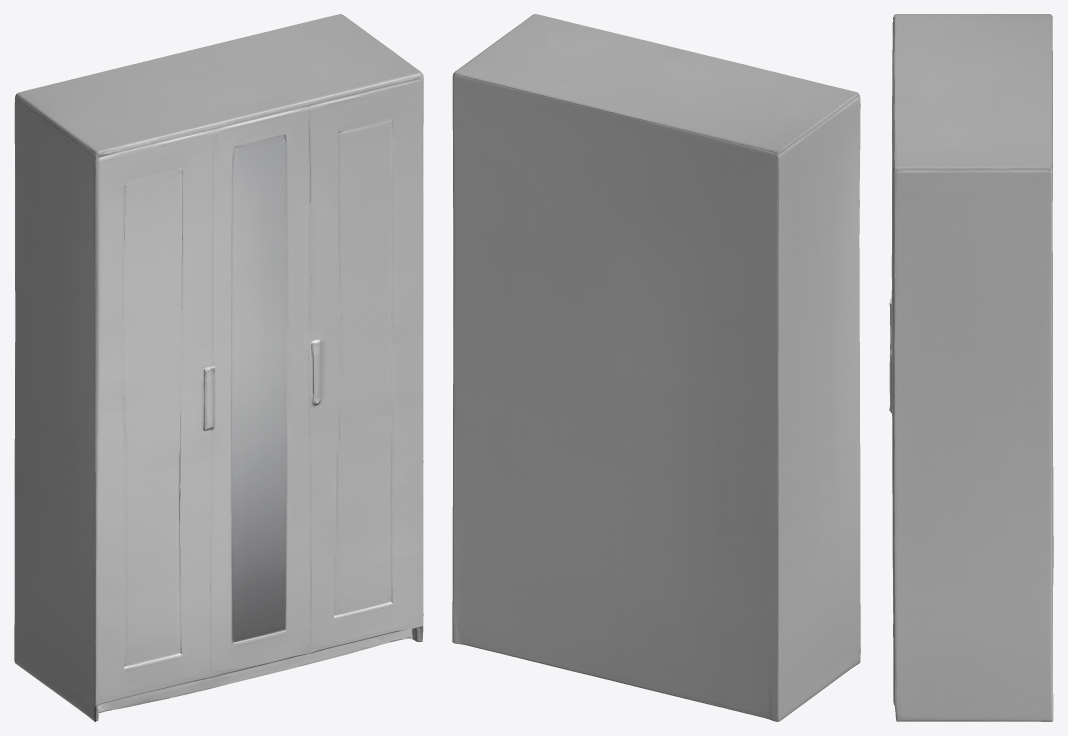
The model's file is wardrobes_19053_image_5.glb.
The picture shows the model from 3 angles, left to right: view 1: azimuth 30°, elevation 25°; view 2: azimuth 150°, elevation 25°; view 3: azimuth 270°, elevation 25°; orthographic projection. The views are drawn at different scales.
Visible parts, largest first — view 1: world; view 2: world; view 3: world.
Boxes of the visible parts, x1=… form: world: x1=14, y1=14, x2=423, y2=721; world: x1=452, y1=14, x2=860, y2=721; world: x1=889, y1=14, x2=1053, y2=721.
Size of the model in its own units: 0.6026 by 1 by 0.2688.
Materials: 1 (1 with a texture image).
